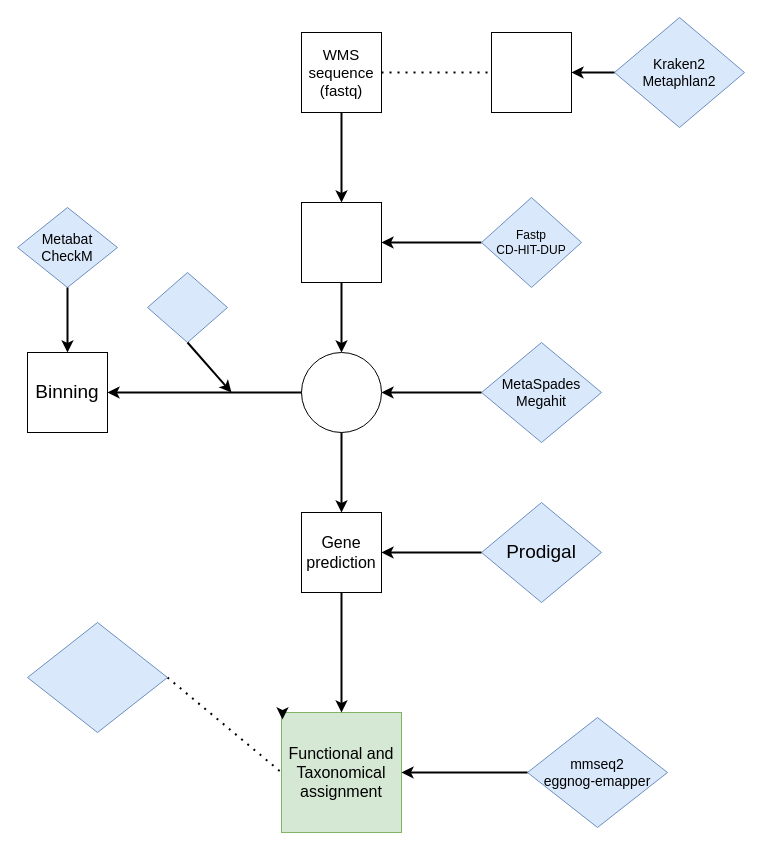
This 762x850 diagram has some shape labels left out. Each missing label, with the box of its shape:
Assembly: (300, 352, 382, 432)
Bowtie2: (146, 272, 228, 342)
Diamond Blastp Hmmer: (26, 622, 168, 732)
Quality and filter: (300, 202, 382, 282)
Taxa assignment: (490, 32, 572, 112)
